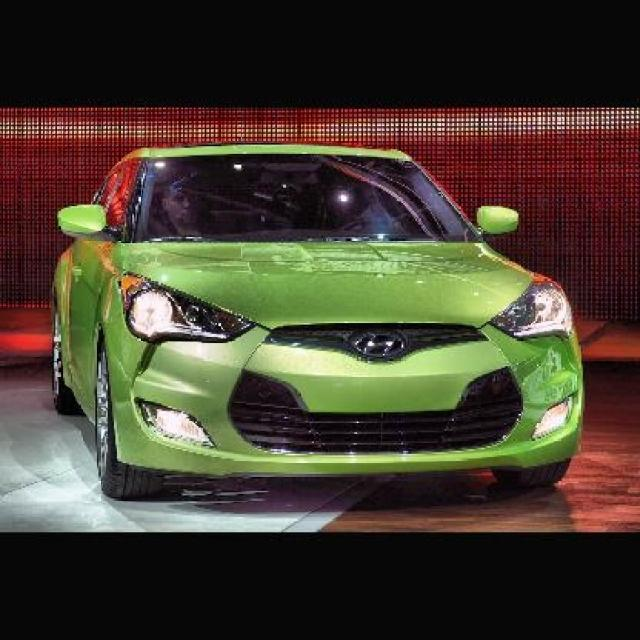green: (35, 134, 640, 472)
